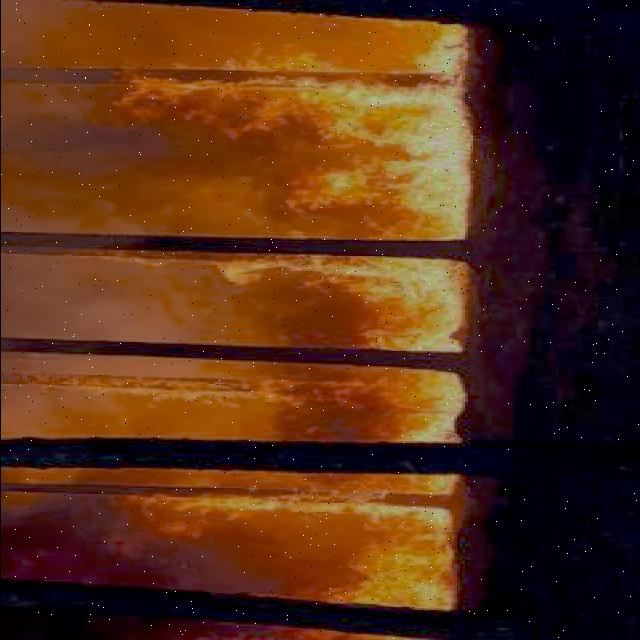api: (344, 520, 458, 607), (293, 153, 465, 209), (147, 490, 453, 521), (70, 373, 463, 397), (129, 81, 467, 107), (353, 283, 467, 347), (213, 257, 471, 283), (322, 109, 471, 151), (369, 392, 464, 446), (363, 208, 472, 244), (217, 47, 337, 72), (416, 28, 469, 72)
asap: (6, 110, 282, 234), (160, 529, 346, 600), (8, 494, 146, 585)
